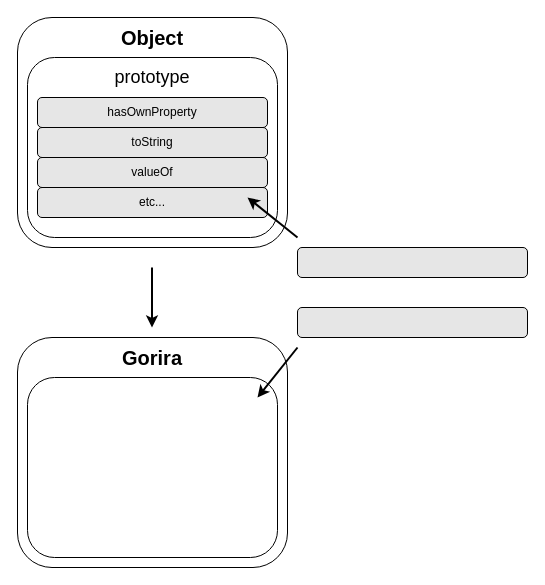
Image size: 545x585. Some labels were removed from this diagram. The centre of each missing label's shape, as x and y in pixels:
"eatBanana（ インスタンスオブジェクト ）" goes at point 412,322.
"eatBanana（プロトタイプメソッド ）" goes at point 412,262.
